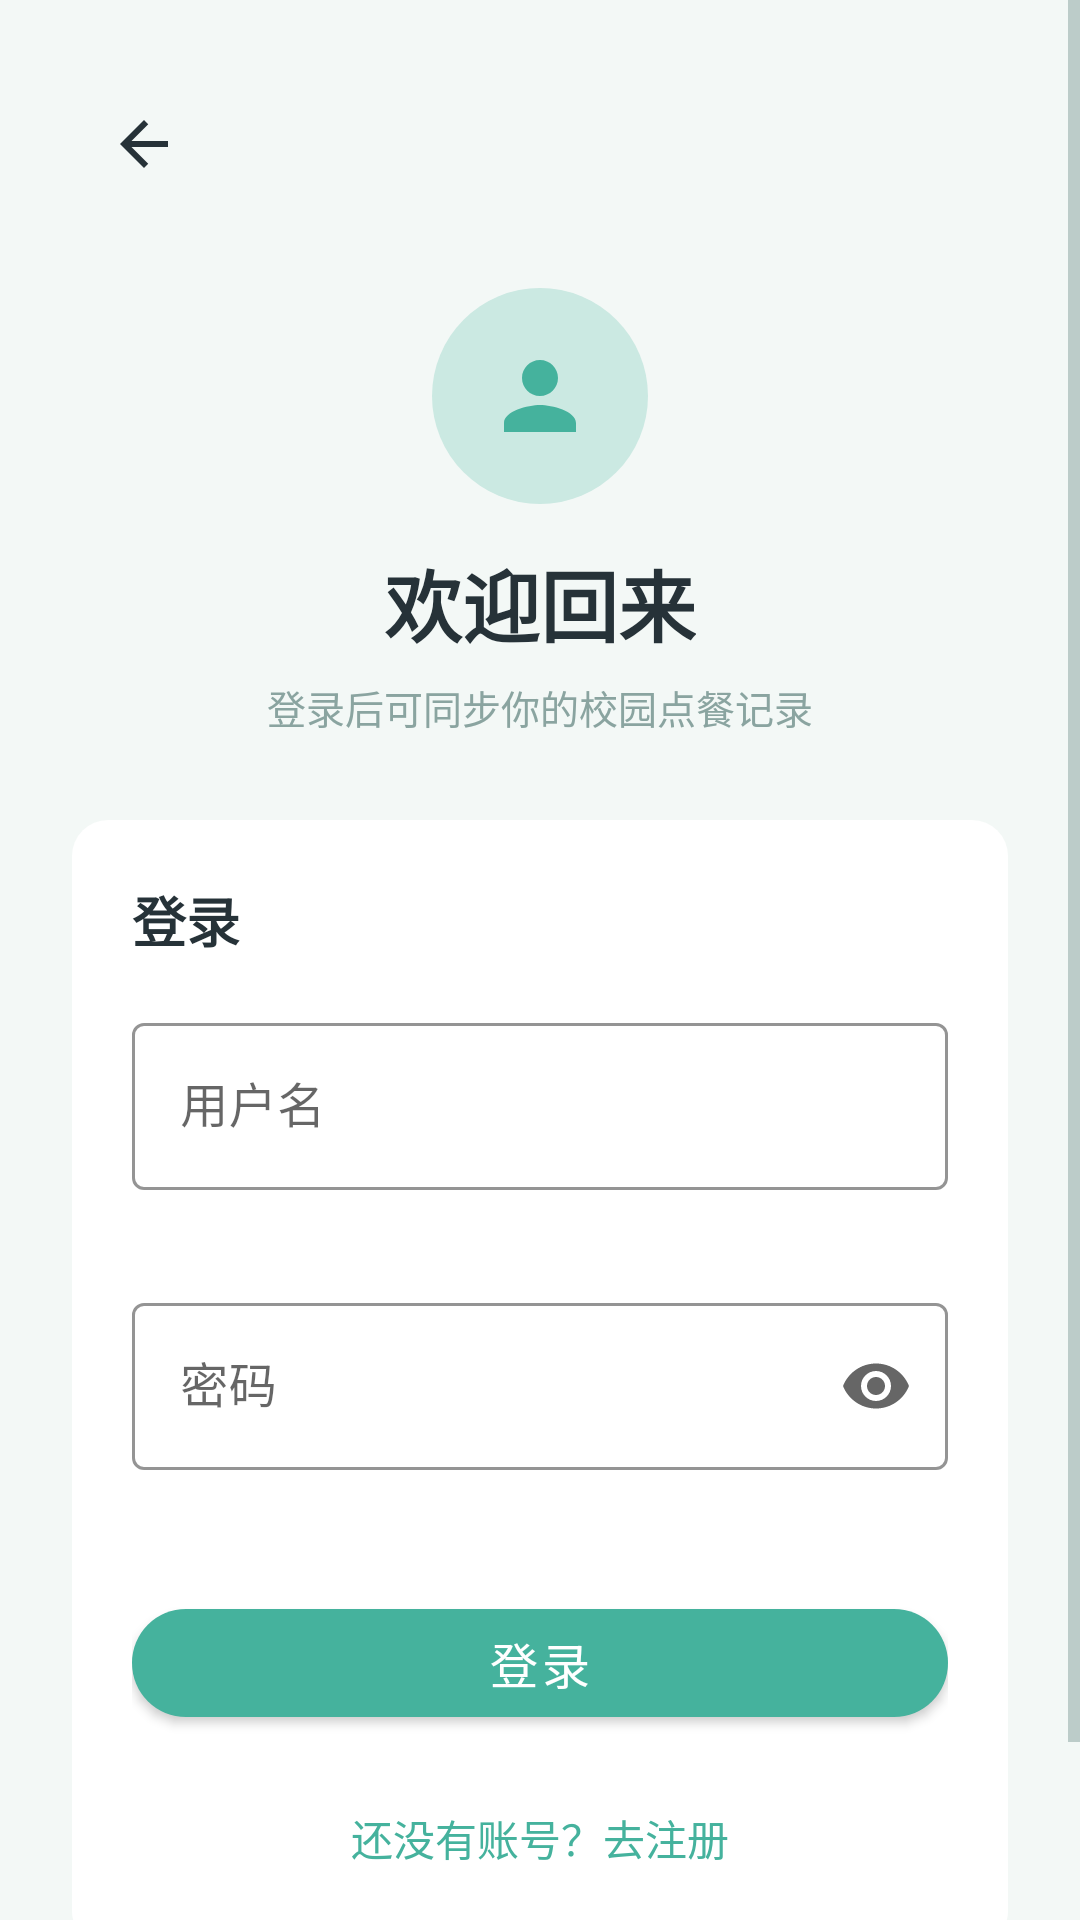

Named icons in this screenshot (1080w x 1920h) and their bounding boxes, (x1, y1, x2, y2):
头像: (432, 288, 648, 504)
返回: (120, 120, 168, 168)
